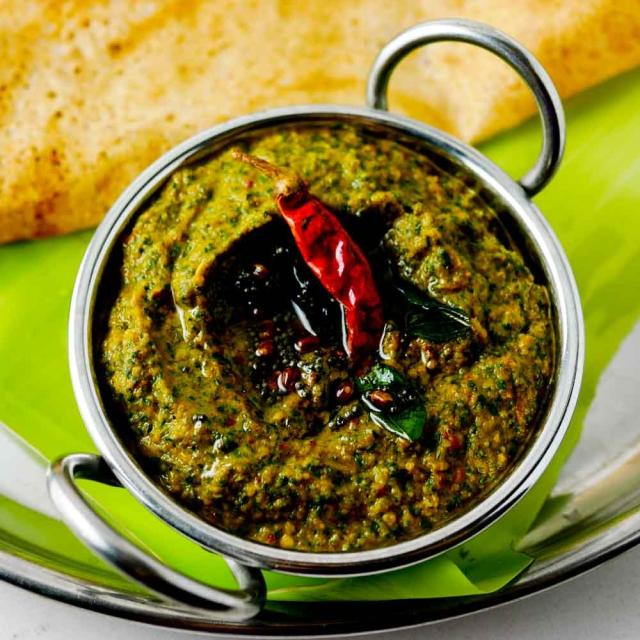puthina chutney: (89, 119, 558, 556)
